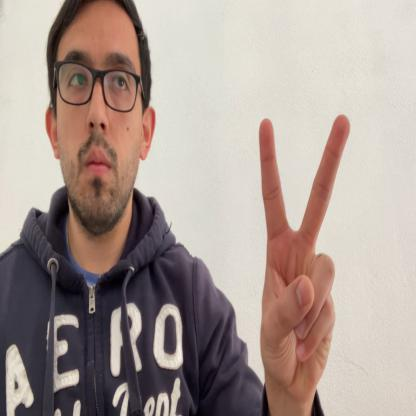V: (259, 113, 351, 394)
